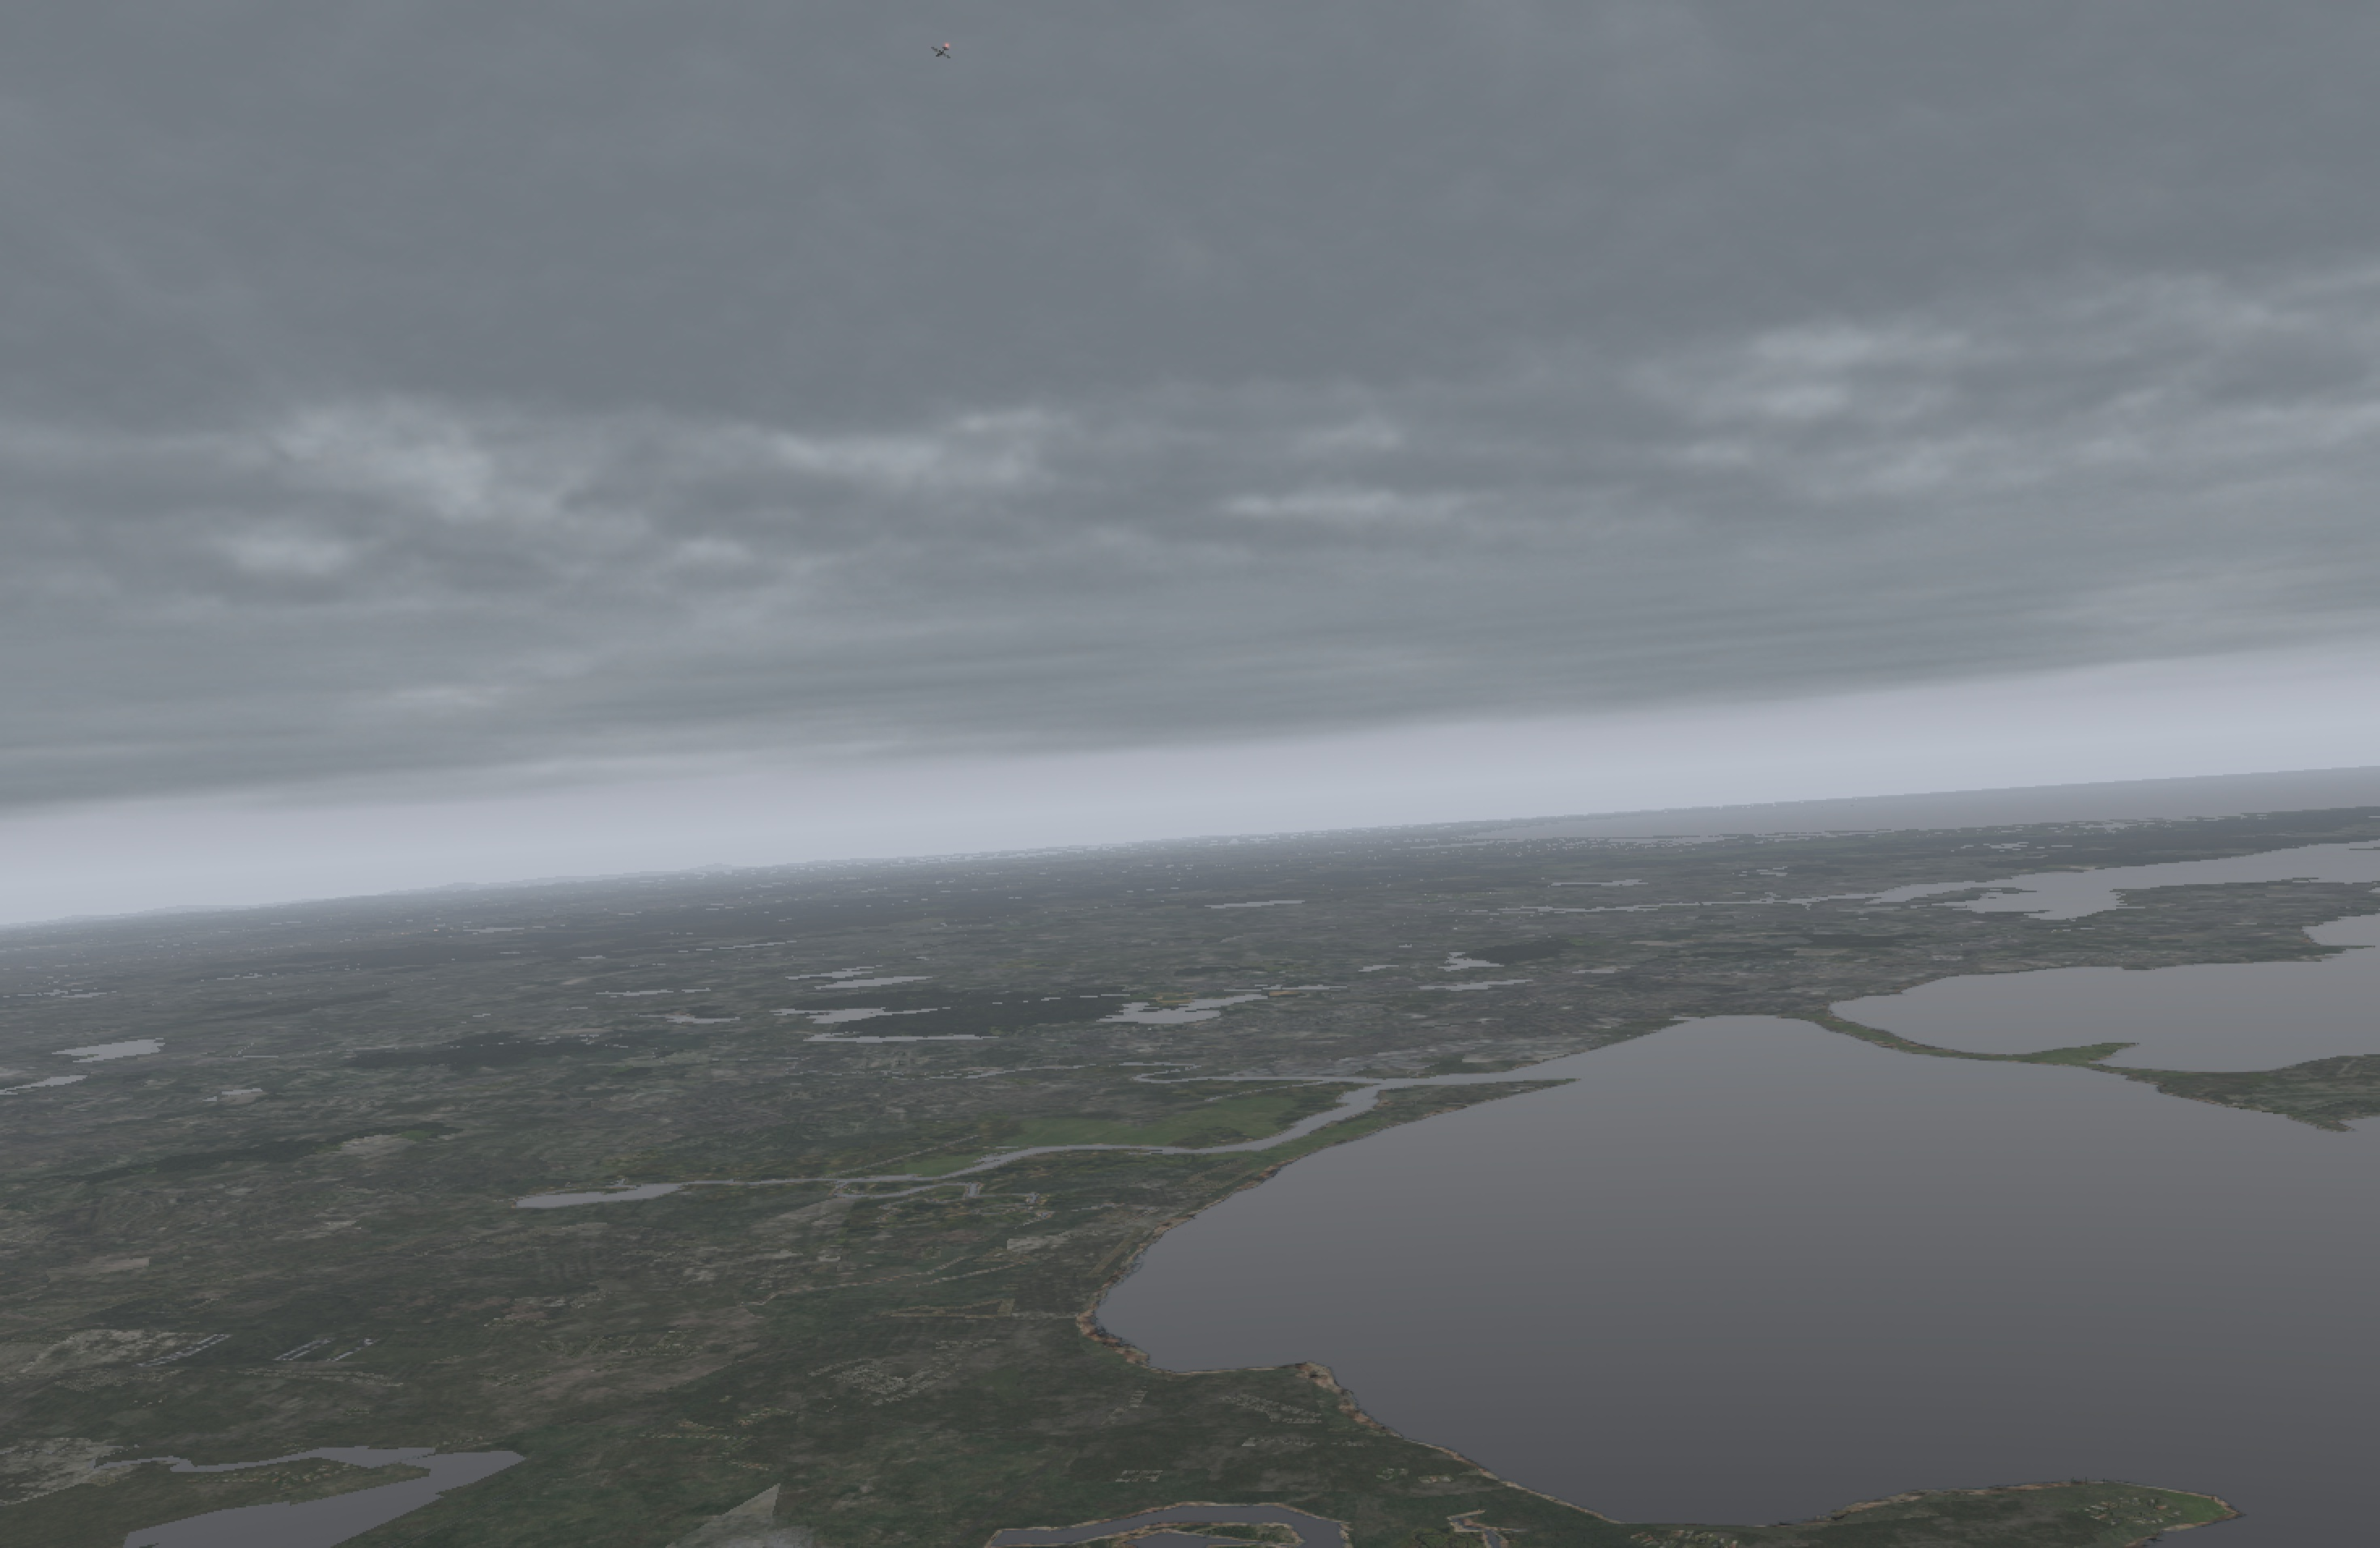aircraft: (932, 50, 947, 57)
